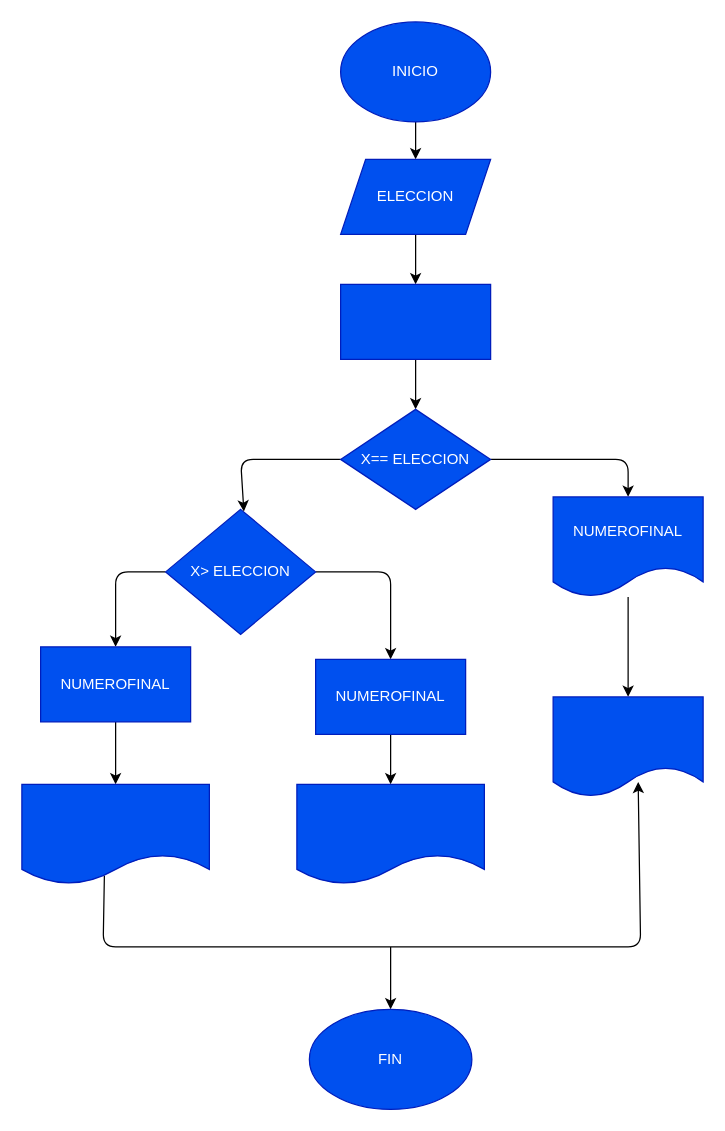
The diagram is 725 pixels wide and 1131 high, and some of its shapes have lost their labels. The shapes that lost their labels are listed below. From the top down, each one's box as (x1, y1, x2, y2) in pixels, then its label:
(339, 283, 491, 359): X = RANDIT (1-10)
(552, 696, 703, 797): PRINT (ACERTASTE)
(21, 783, 209, 884): PRINT (EL NUMERO.NUMEROFINAL ES MENOR)
(296, 783, 484, 884): PRINT (EL NUMERO.NUMEROFINAL ES MAYOR)
